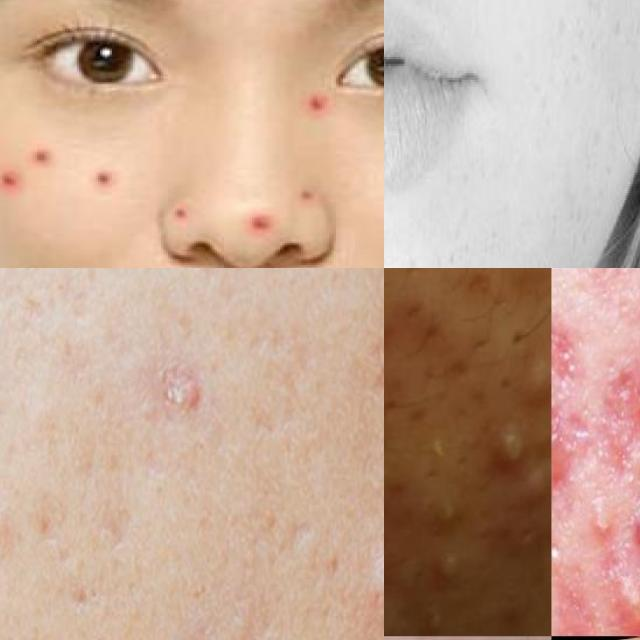acne_scars: (551, 447, 582, 526)
comedone: (422, 423, 464, 481), (384, 617, 413, 636)
papule: (585, 502, 619, 548)
pustule: (424, 534, 475, 600), (495, 414, 536, 485), (424, 484, 471, 534), (519, 354, 551, 419), (366, 557, 384, 623), (509, 268, 548, 294)
sebo-crystan-conglo: (621, 563, 640, 636)
